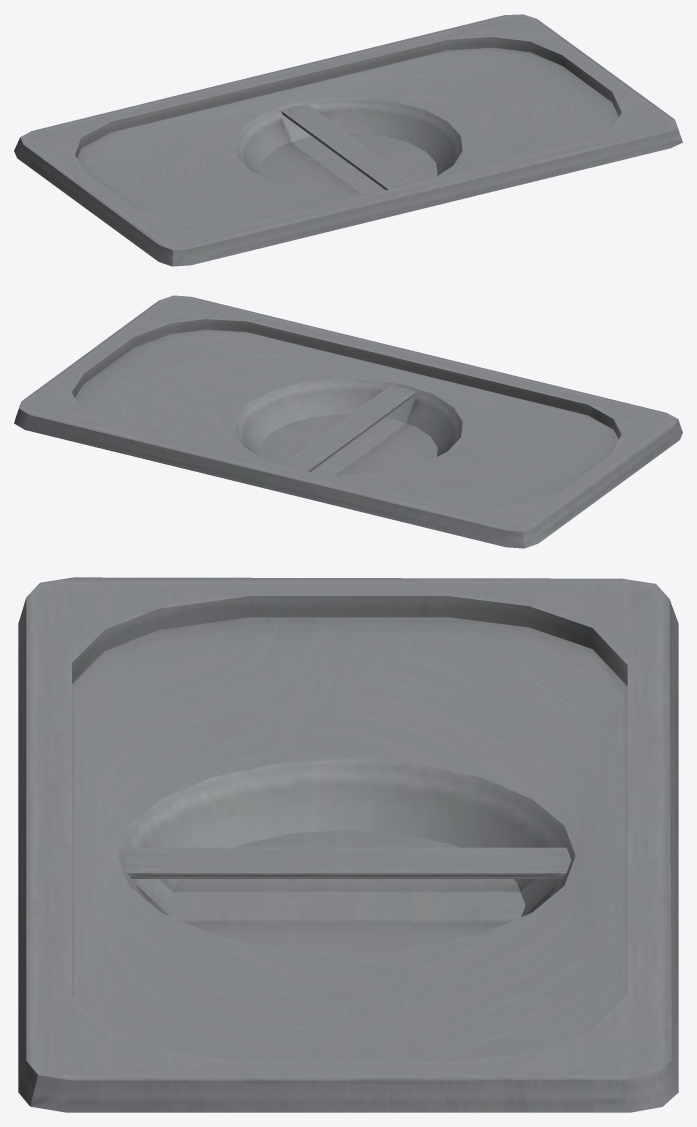
The model's file is SM_Hotel_Pan_1_3_Lid_01.glb.
3 views of the same model, one above another, from view 1: azimuth 30°, elevation 25°; view 2: azimuth 150°, elevation 25°; view 3: azimuth 270°, elevation 25° (orthographic). The views are drawn at different scales.
Visible parts, largest first — view 1: SM_Hotel_Pan_1_3_Lid_01; view 2: SM_Hotel_Pan_1_3_Lid_01; view 3: SM_Hotel_Pan_1_3_Lid_01.
Boxes of the visible parts, bbox=[...] form: SM_Hotel_Pan_1_3_Lid_01: bbox=[14, 14, 682, 266]; SM_Hotel_Pan_1_3_Lid_01: bbox=[14, 295, 682, 548]; SM_Hotel_Pan_1_3_Lid_01: bbox=[18, 577, 678, 1112].
Size of the model in its own units: 0.33 by 0.0255 by 0.1809.
Materials: 1 (1 with a texture image).
